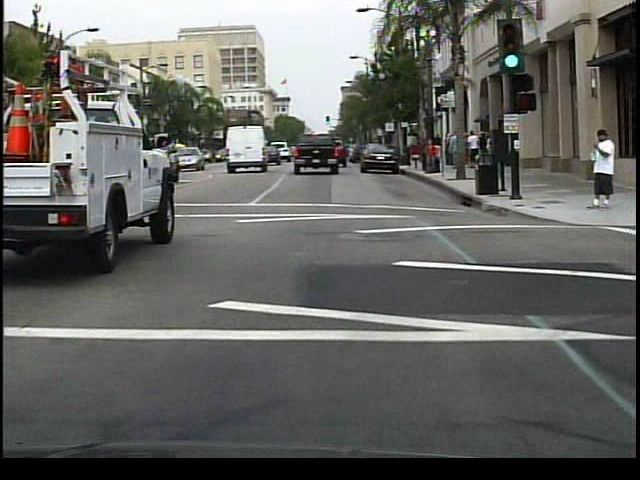person: (585, 126, 620, 210), (419, 137, 440, 178)
